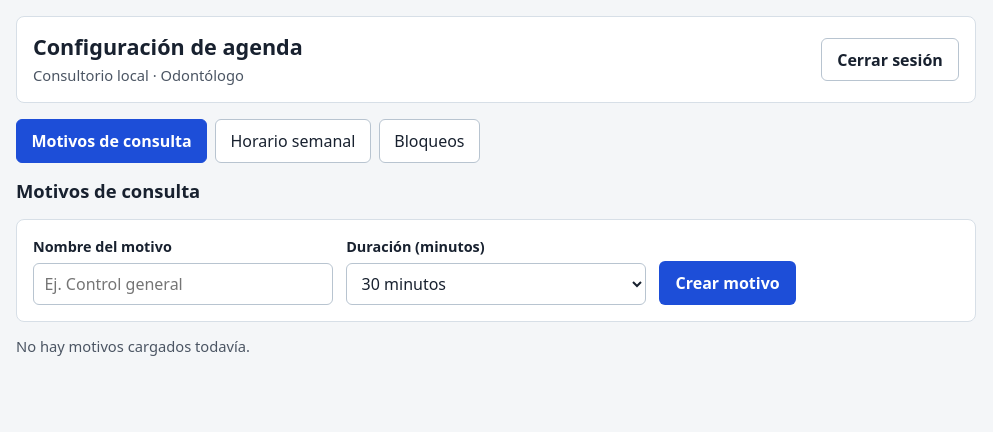
App - flujo de sesion › ante 403 CSRF_INVALID con sesion expirada vuelve al ingreso enviando la escritura una sola vez
This screenshot has width=993, height=432.
Expected: the text "No hay motivos cargados todavía." is shown, [16,336,250,356]
In the field labelled "Nombre del motivo": (183, 284) [33,263,333,305], type "Limpieza"
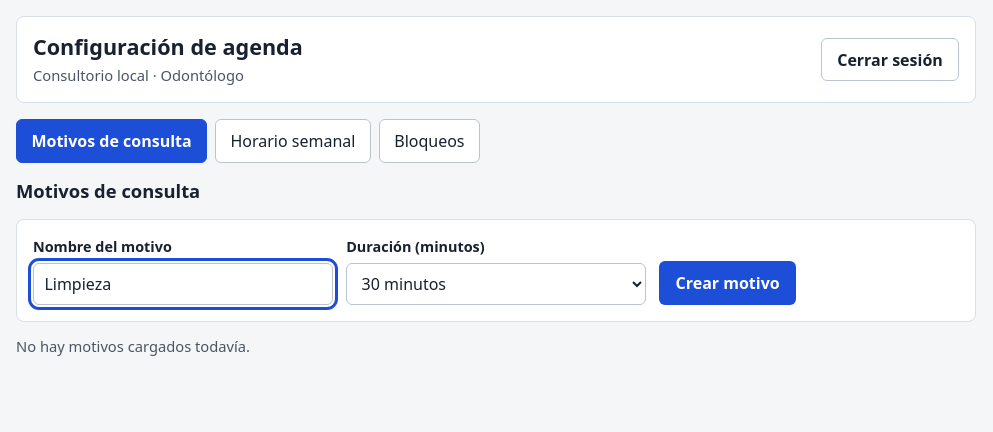
Click the button "Crear motivo": (728, 283) [659,261,796,305]
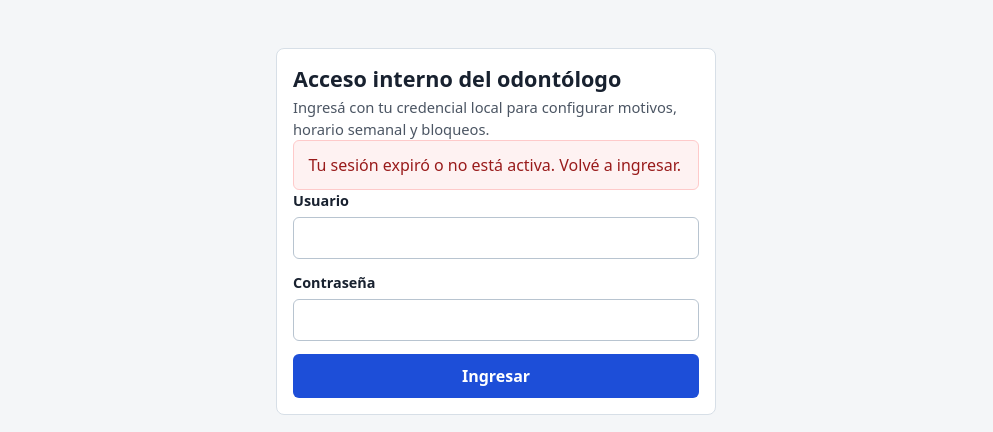
Now the button "Ingresar" is shown, box [293,354,699,398]
Now the message shows "expiró", box [308,154,681,176]
